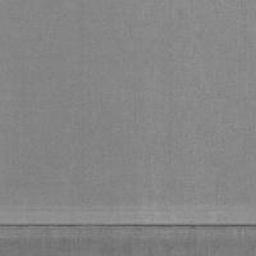Welding line: (0, 224, 256, 229)
